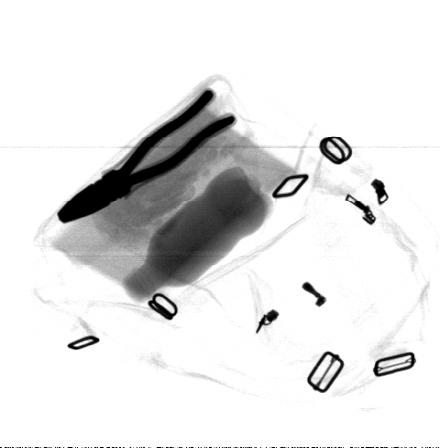Pliers: (55, 86, 239, 225)
